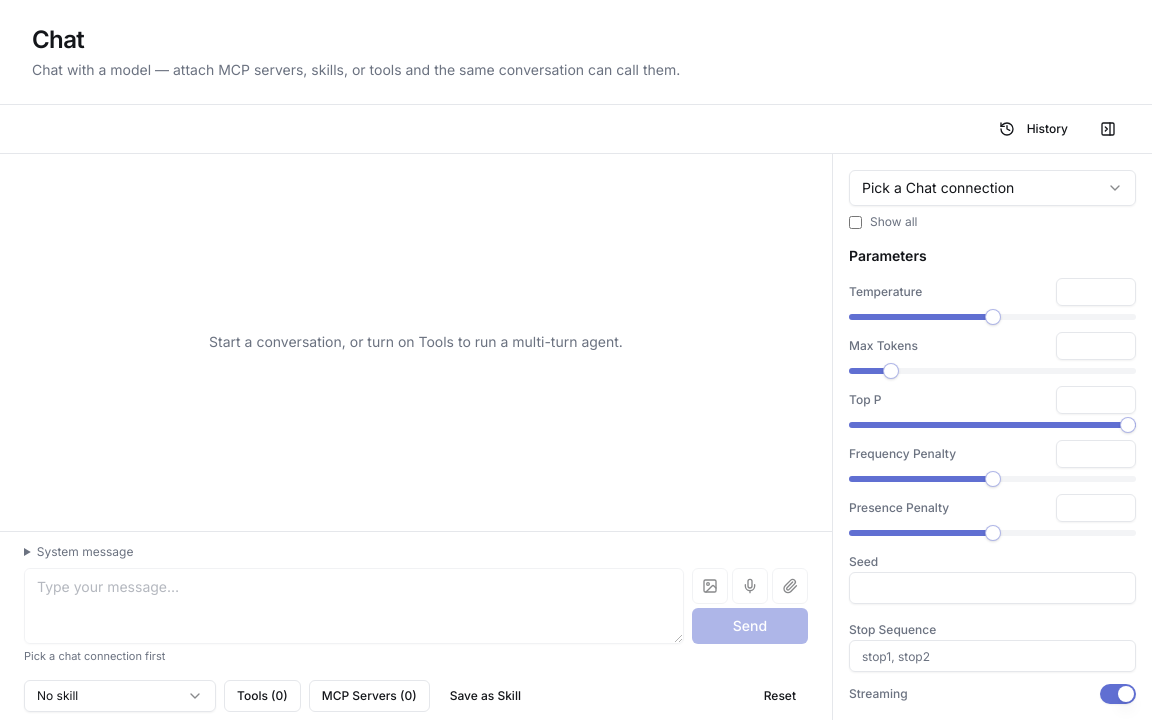
Test: AgentPage › multi-turn chat: sends accumulate + carry context › keeps prior turns visible and resends the transcript as messages on the next send
Click the dropdown labelled "Pick a Chat connection".
click(992, 188)  # box [849,170,1136,206]
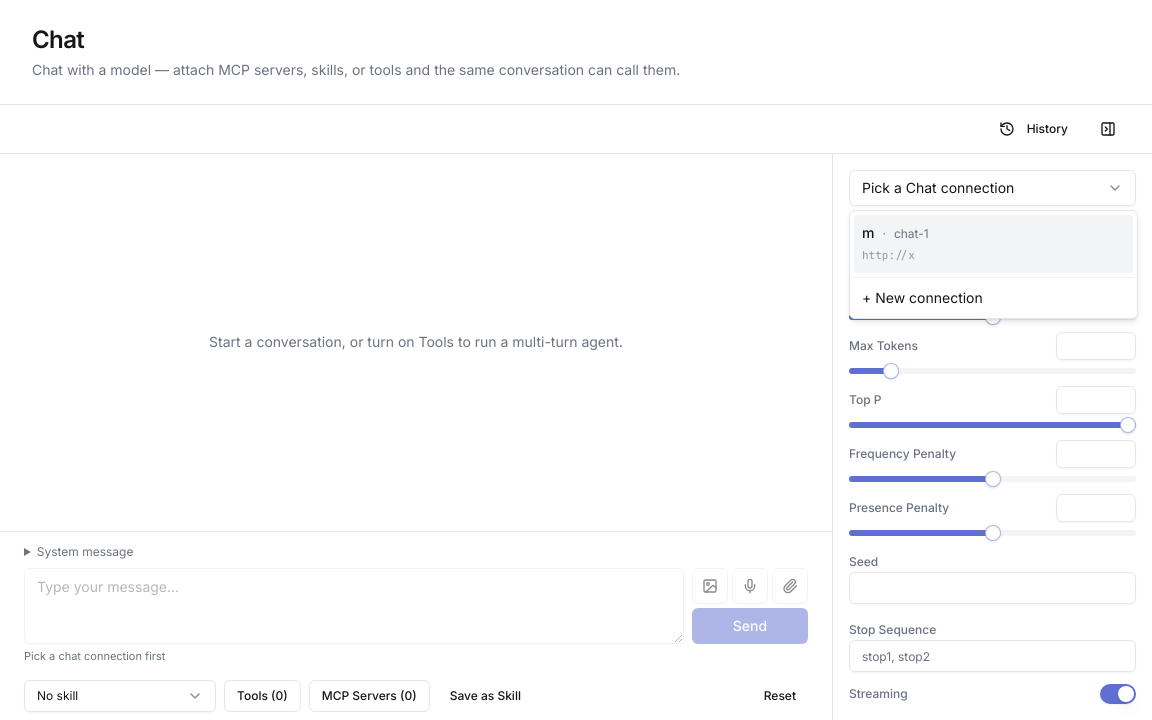
Click the option "m · chat-1 http://x".
click(911, 234)  # box [854,215,1133,273]
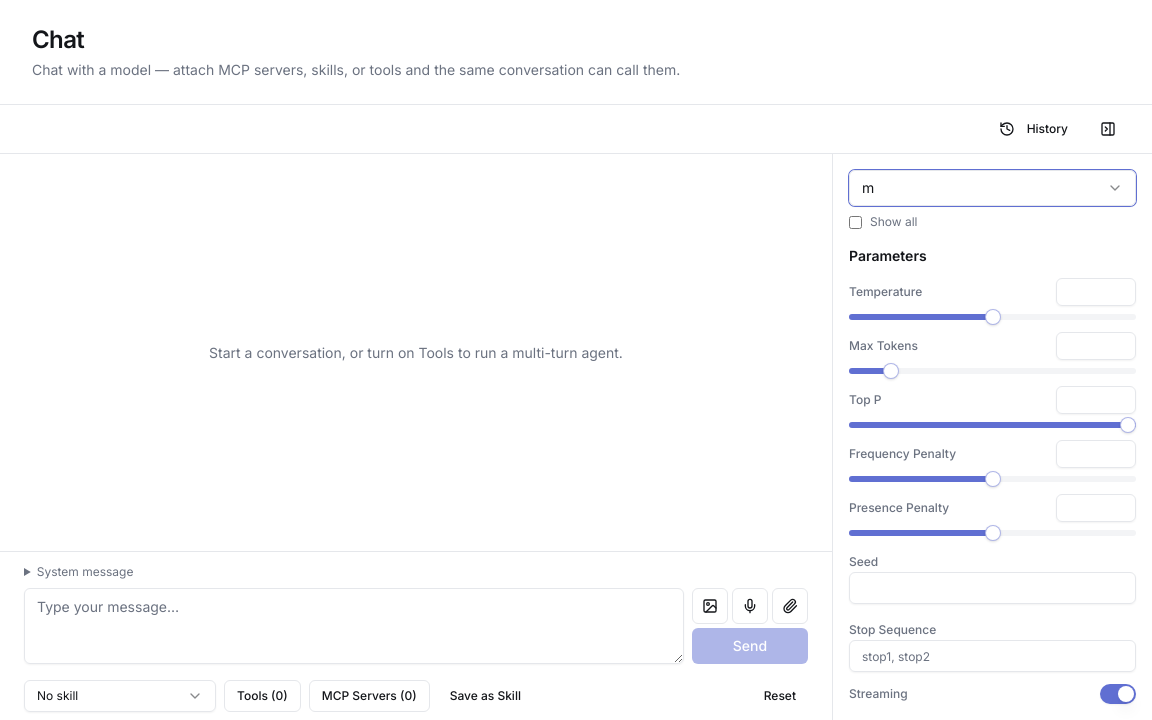
Type "why is the sky blue?" into the text box with placeholder "Type your message…".
click(354, 626); type("why is the sky blue?")  # box [24,588,684,664]
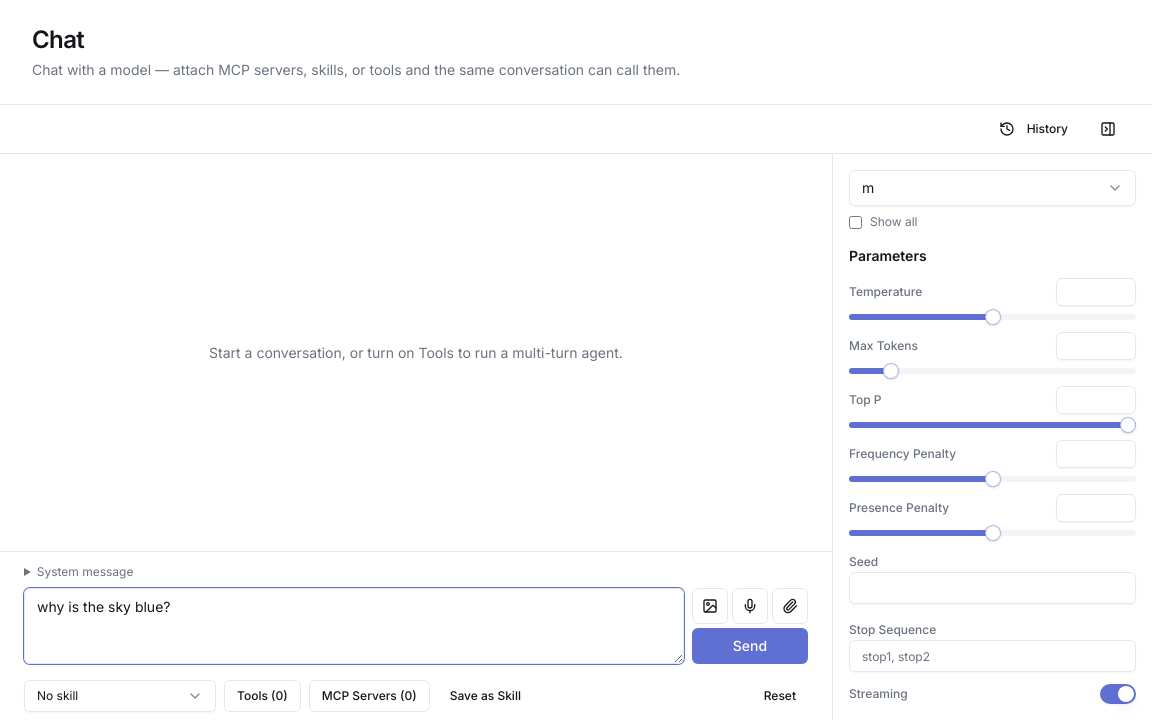
Click the button "Send".
click(750, 646)  # box [692,628,808,664]
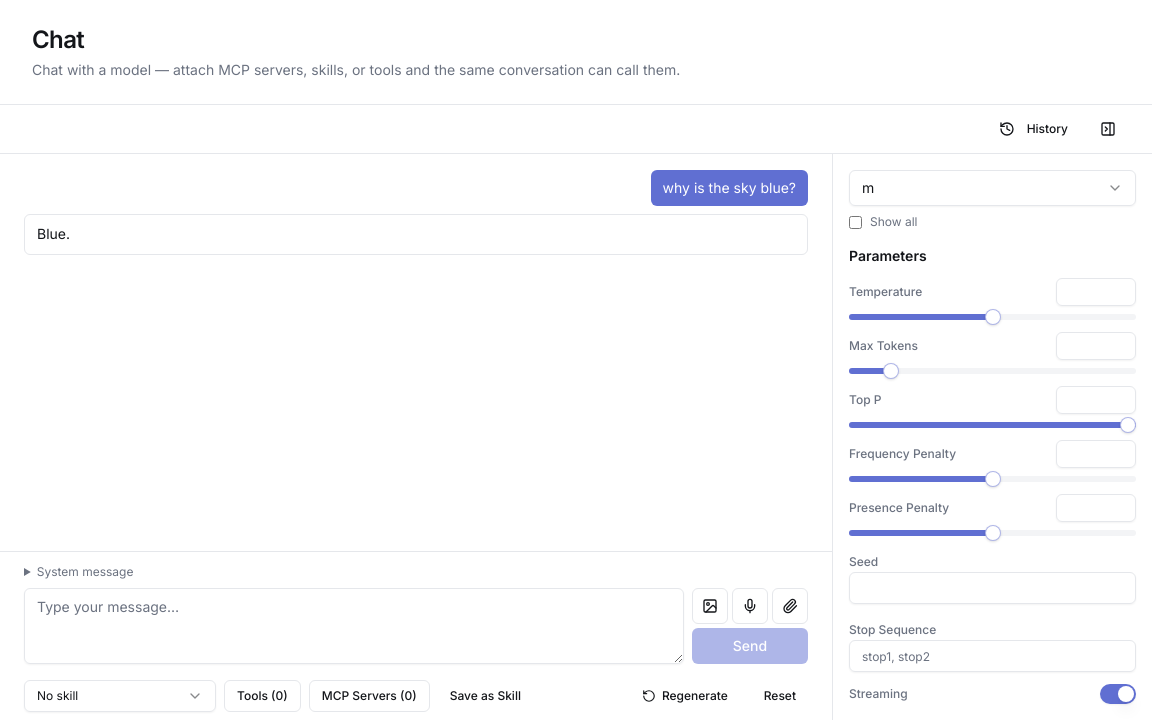
Result: the text "Blue." is shown at [37,225,70,242]
Result: the text "why is the sky blue?" is shown at [650,170,808,206]
Type "and why red at sunset?" into the text box with placeholder "Type your message…".
click(354, 626); type("and why red at sunset?")  # box [24,588,684,664]
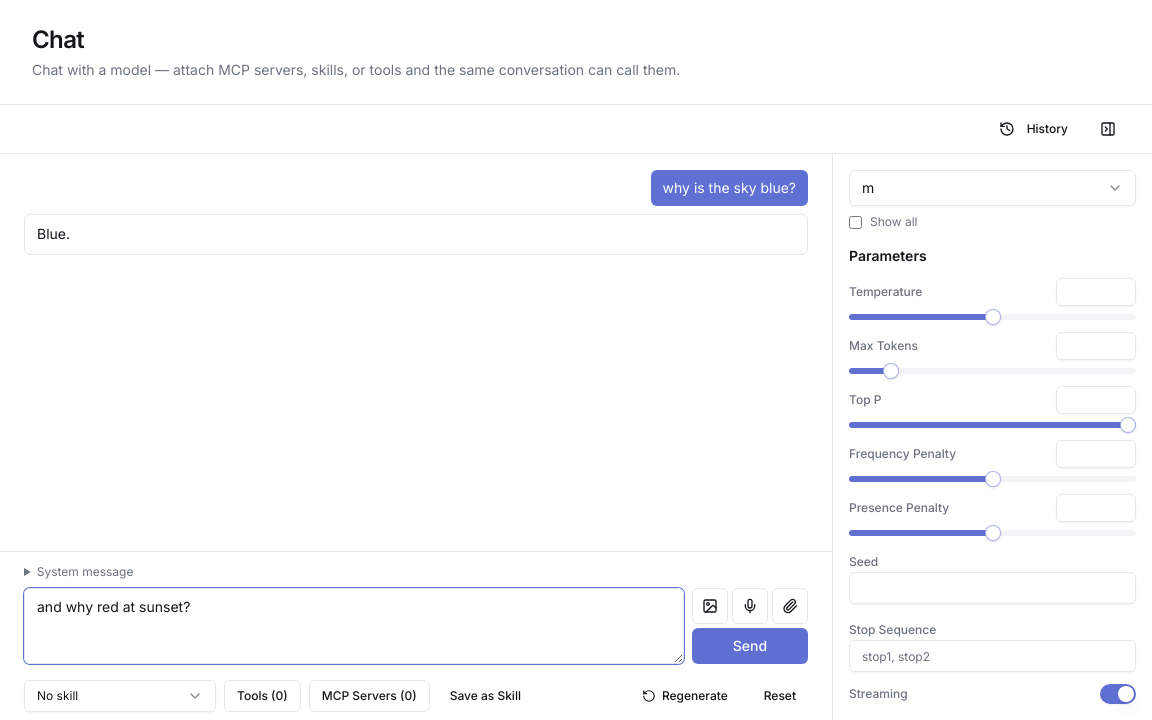
Click the button "Send".
click(750, 646)  # box [692,628,808,664]
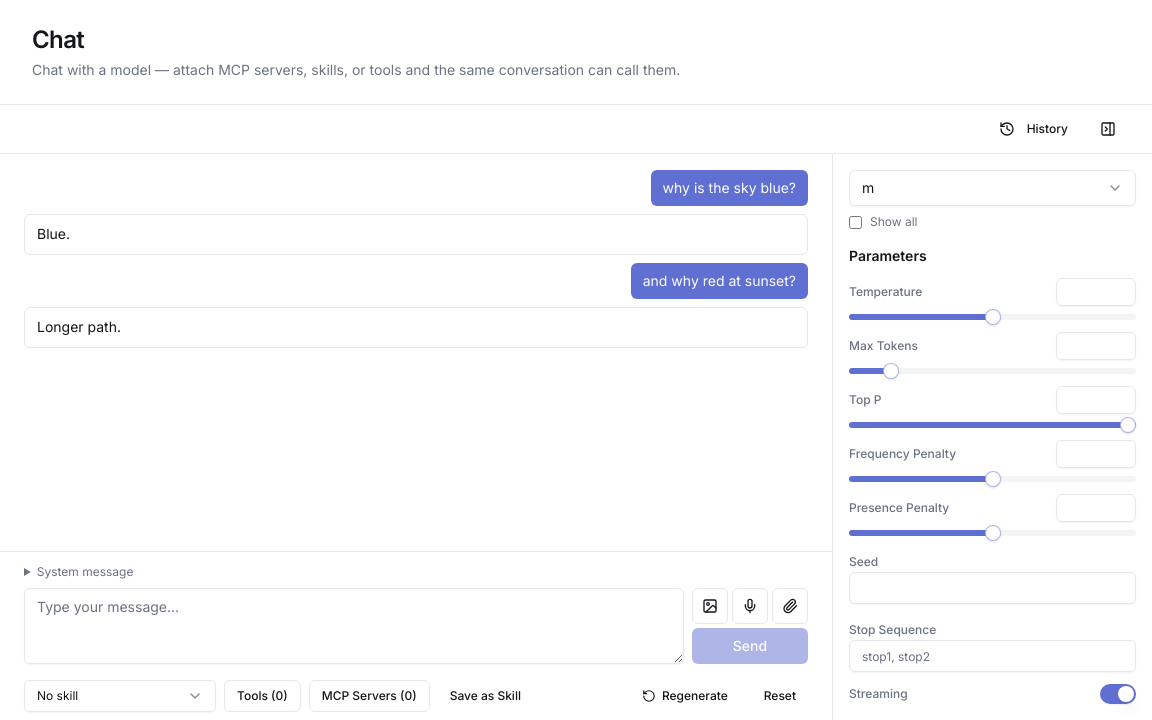
Result: the text "Longer path." is shown at [37,318,121,335]
Result: the number of elements with test id "user-bubble" is 2 at [650,170,808,206]; [631,263,808,299]
Result: the number of elements with test id "assistant-bubble" is 2 at [24,214,808,255]; [24,307,808,348]
